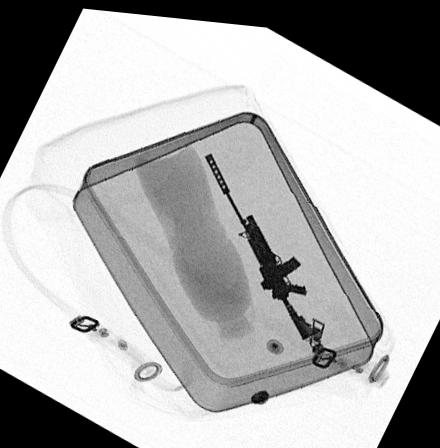Gun: (202, 144, 326, 334)
